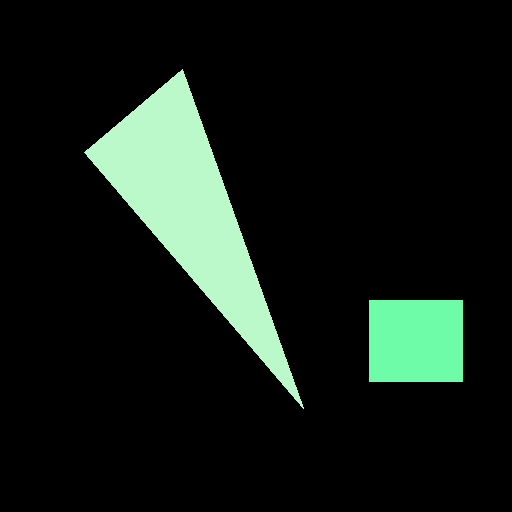rectangle: (369, 300, 462, 381)
triangle: (84, 69, 303, 408)
